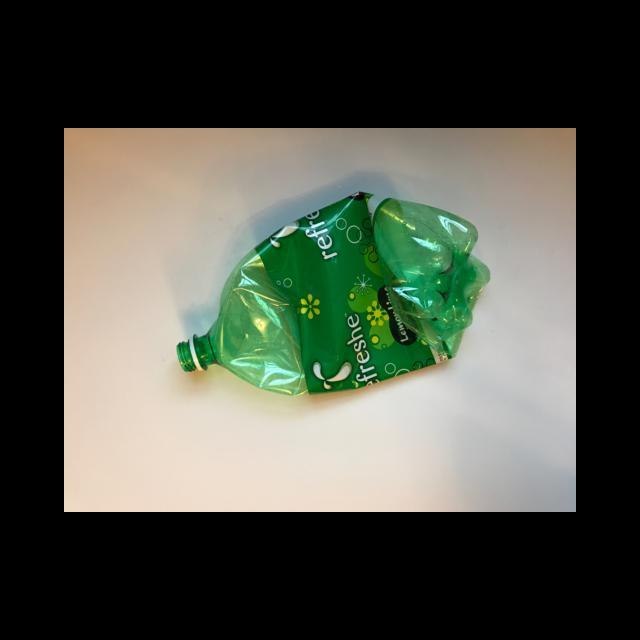plastic: (175, 189, 489, 398), (254, 191, 451, 393)
